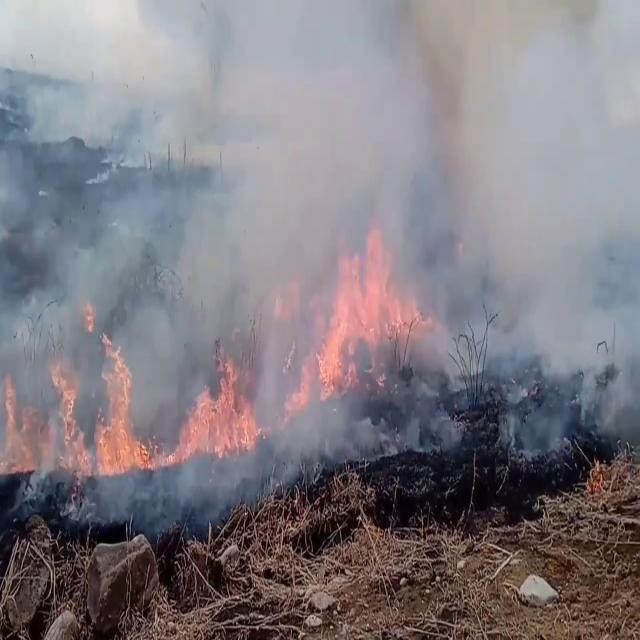Fire: (0, 321, 156, 482), (314, 215, 406, 398), (177, 333, 261, 463)
Smoke: (1, 3, 639, 470)
